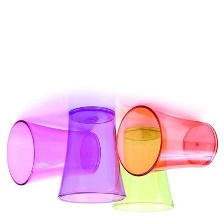glass: (111, 92, 224, 183), (2, 113, 102, 192), (54, 100, 126, 207), (109, 122, 180, 215)
